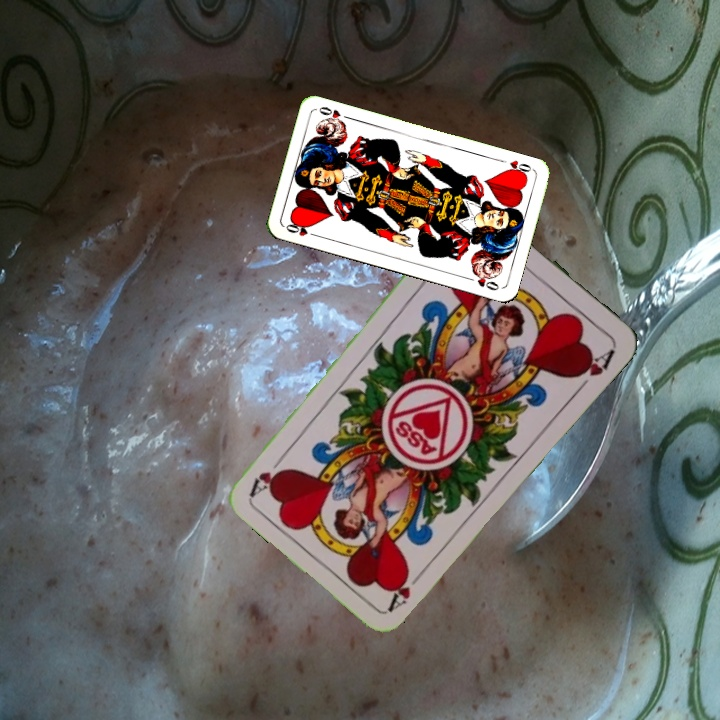HA: (384, 564, 428, 614)
HO: (281, 217, 321, 240), (502, 156, 536, 179)
